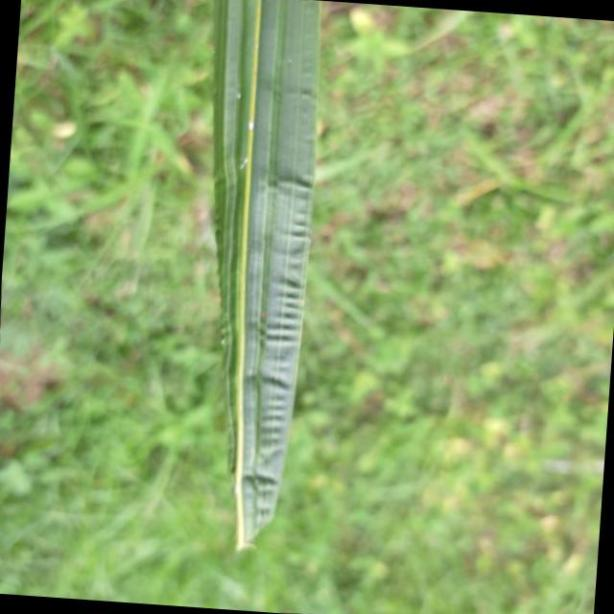Boron: (205, 0, 326, 552)
